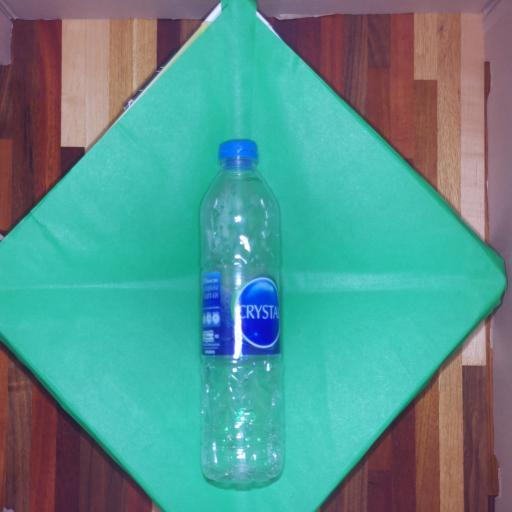bottle: (174, 126, 302, 495)
